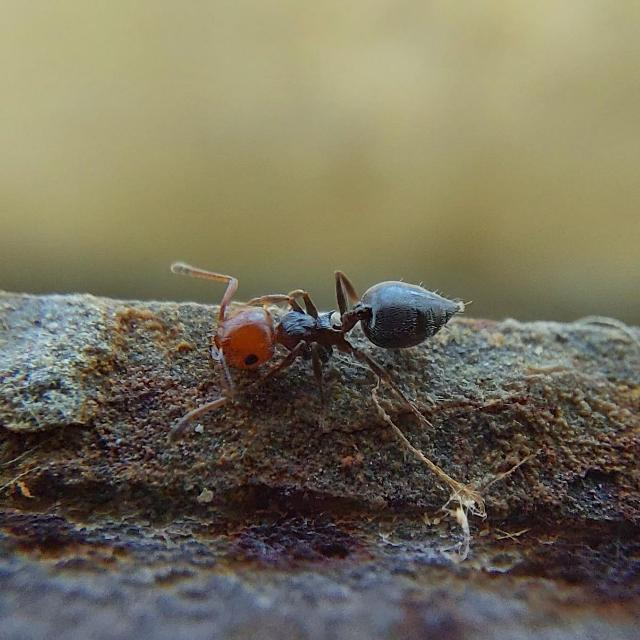Crematogaster: (196, 253, 468, 403)
